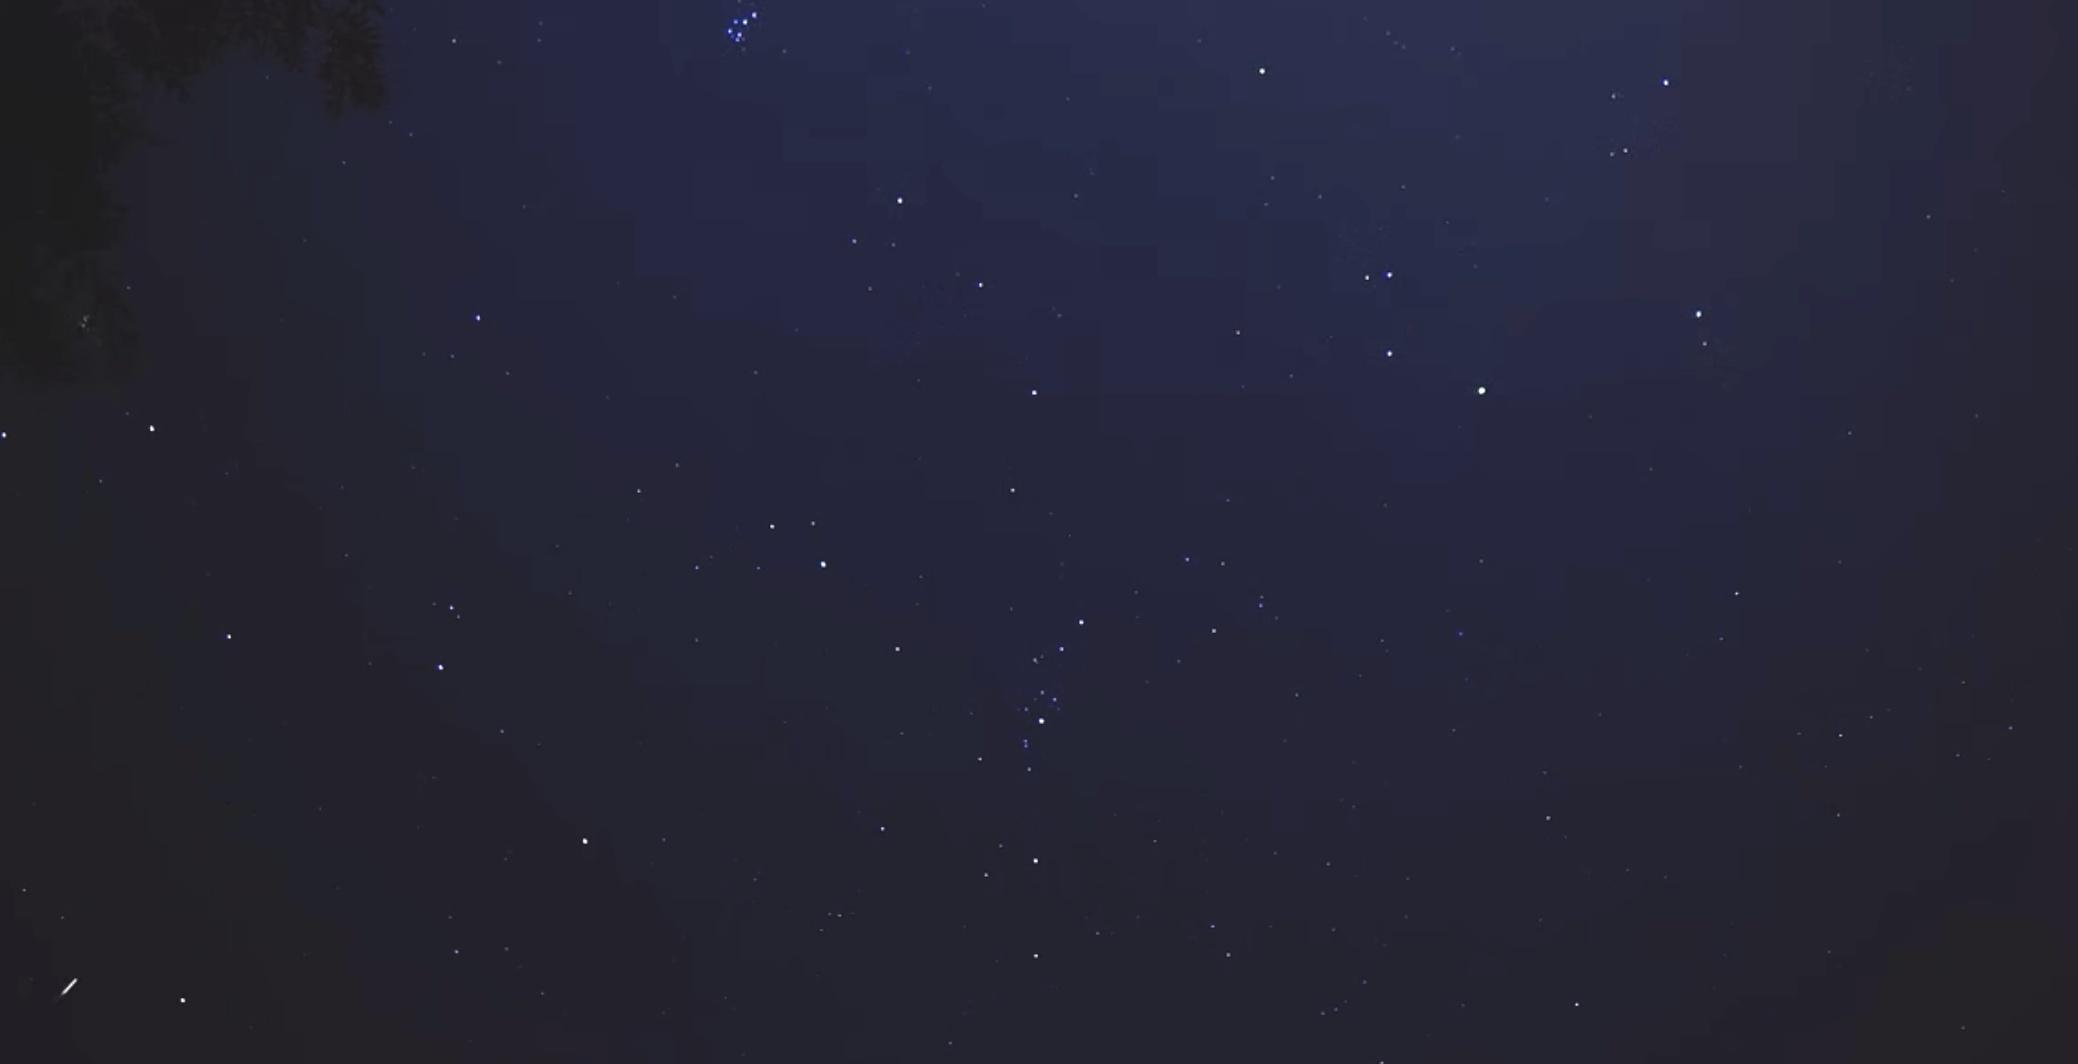meteorite: (14, 968, 126, 1007)
